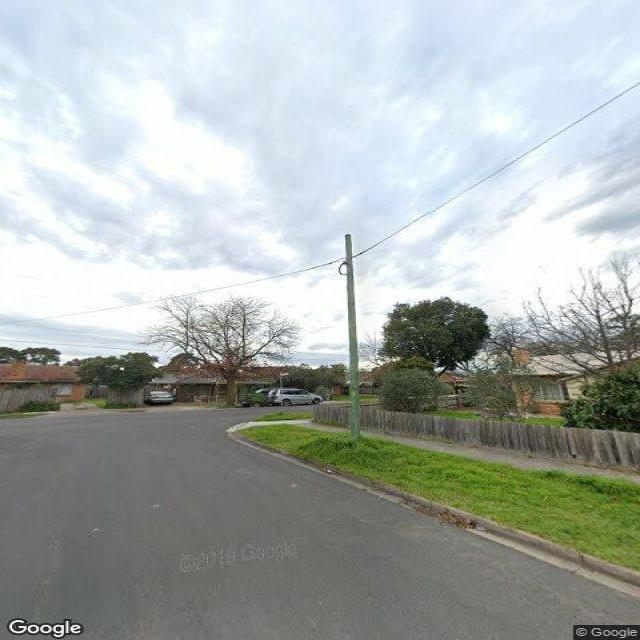timber-pole: (343, 234, 356, 431)
